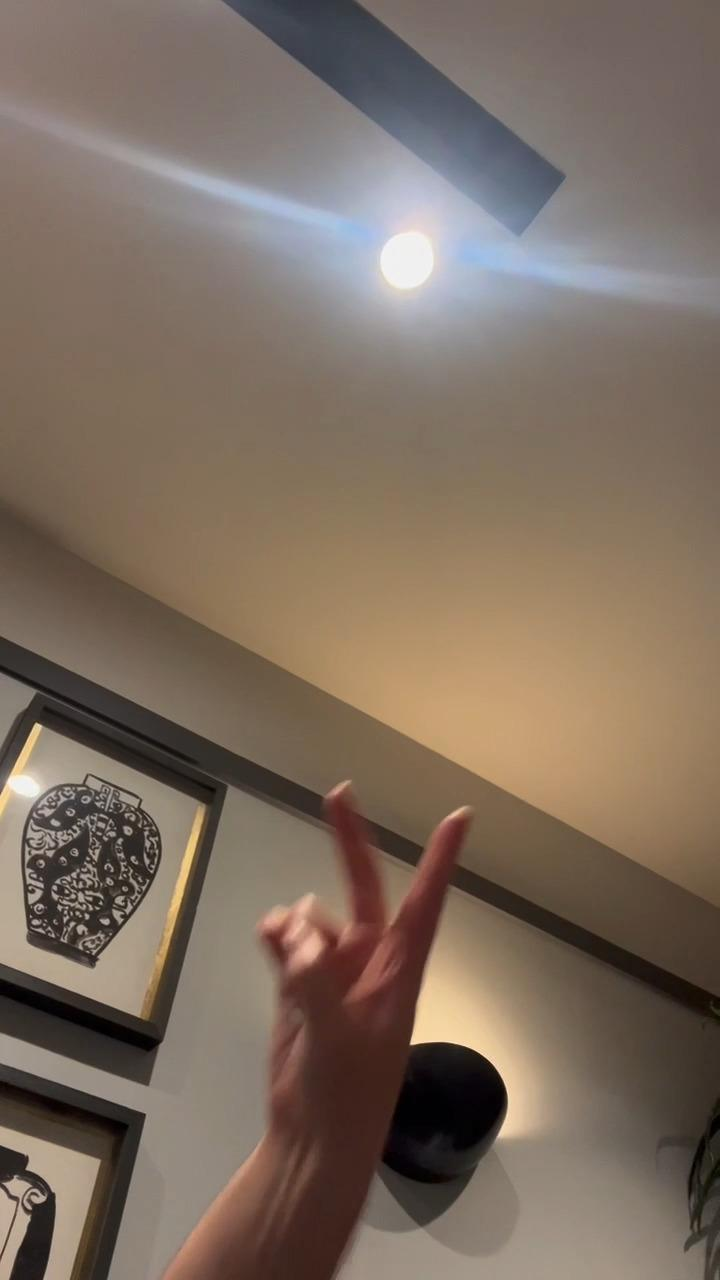Scissors: (260, 778, 481, 1152)
